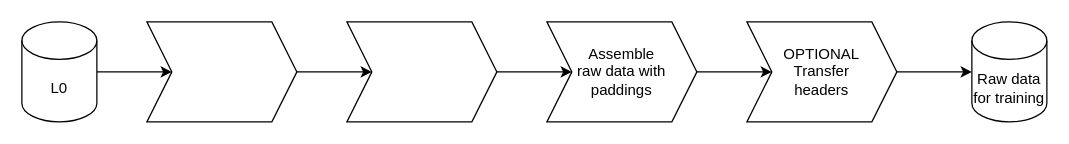
Some shapes in this 1069 by 144 pixel diagram are drawn without their labels. The shapes that lost their labels are listed below. From the top down, each one's centre as x and y in pixels, then its label:
At (x=221, y=71): "Parse echoes, calibration and noise".
At (x=421, y=71): "OPTIONAL Decompression".
